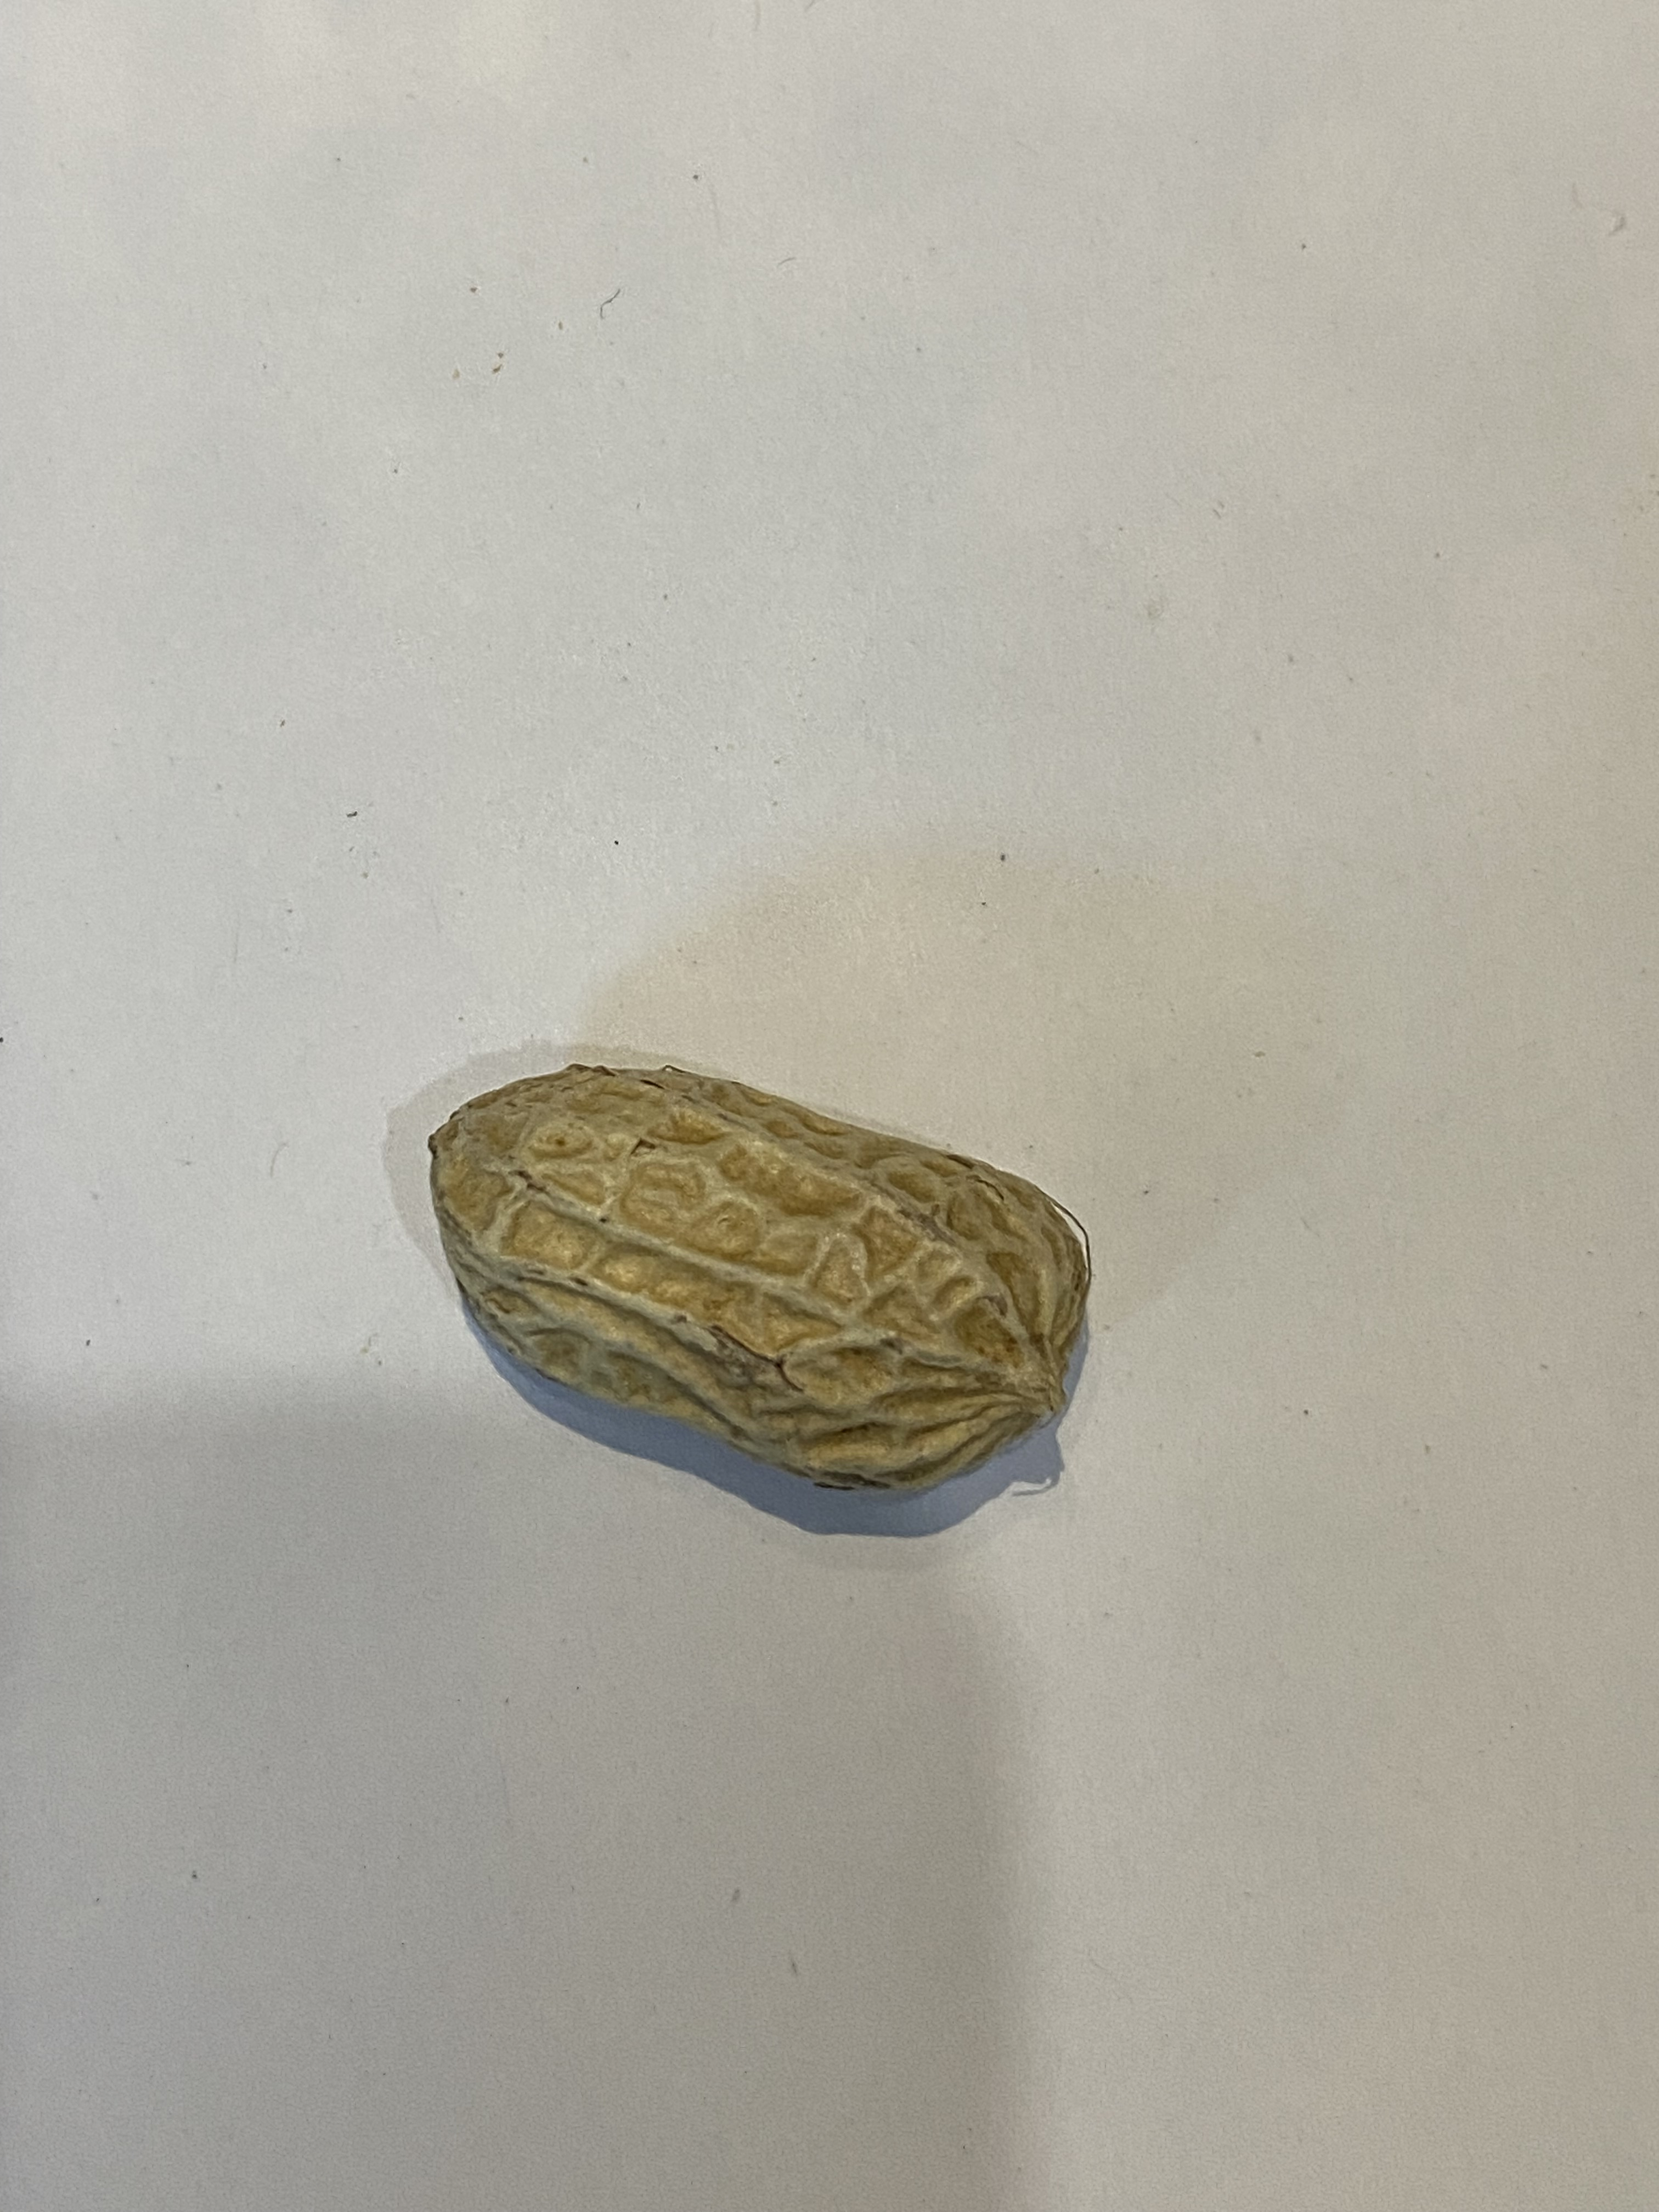kacang2: (375, 1014, 1143, 1534)
